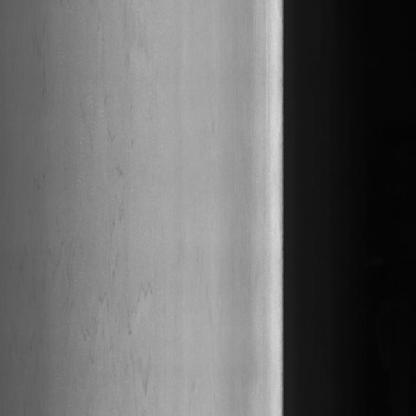silk_spot: (52, 38, 166, 392)
